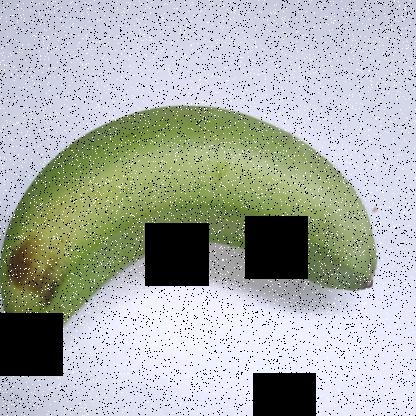freshunripe: (0, 93, 388, 374)
